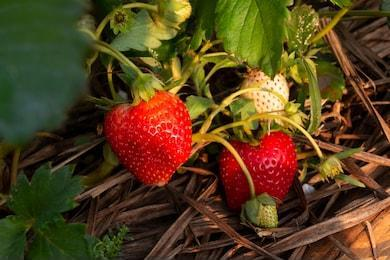Fresa: (102, 84, 197, 193), (216, 119, 301, 218)
